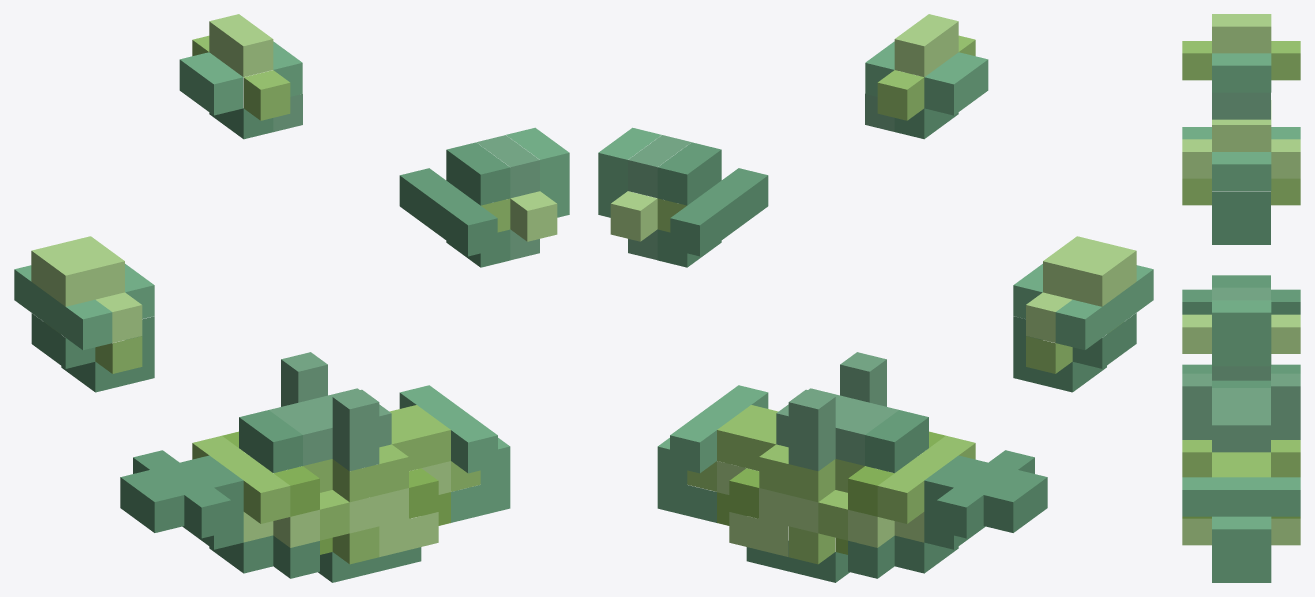
The model's file is 1924_hat_leaves.glb.
3 views of the same model, side by side, from view 1: azimuth 30°, elevation 25°; view 2: azimuth 150°, elevation 25°; view 3: azimuth 270°, elevation 25° (orthographic). The views are drawn at different scales.
Size of the model in its own units: 17 by 18 by 4.
